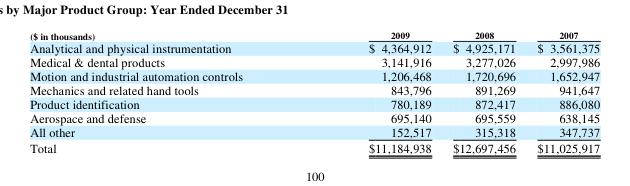table: (29, 29, 599, 154)
table column: (29, 29, 305, 154), (305, 29, 441, 154), (441, 29, 525, 154), (525, 29, 599, 154)
table column header: (29, 29, 599, 41)
table row: (29, 124, 599, 139), (29, 139, 599, 154), (29, 54, 599, 68), (29, 68, 599, 82), (29, 82, 599, 96), (29, 96, 599, 110), (29, 110, 599, 124), (29, 41, 599, 54), (29, 29, 599, 41)
